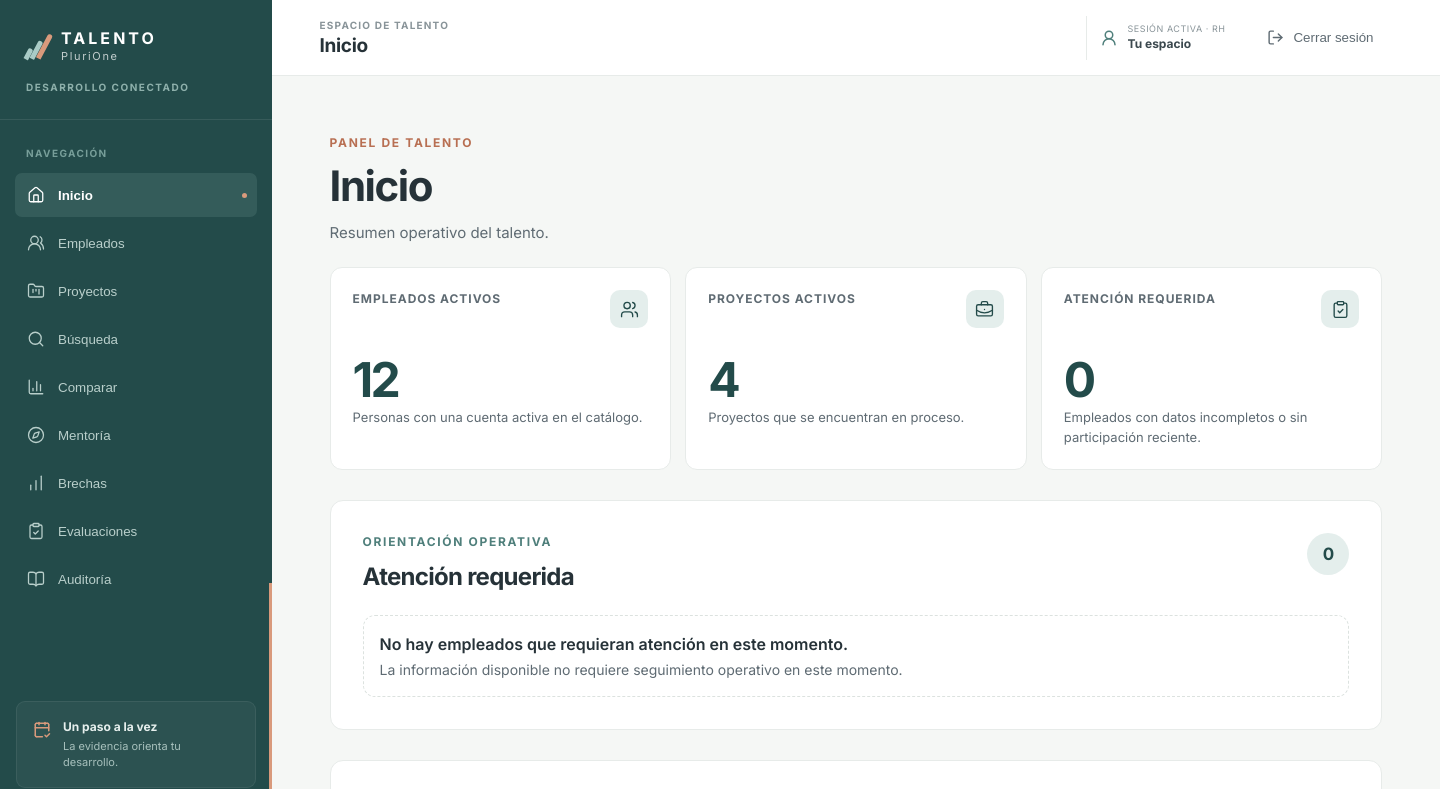
it: RH-02.3 — App: rutas reales de Proyectos (/proyectos, /proyectos/:id) › la URL de Proyectos no sobrevive al cierre de sesión
The image size is (1440, 789).
Check: the heading "Empleados activos" is shown, box left=353, top=290, right=501, bottom=308
What coordinates should you click on to do the following:
click the button "Proyectos"
I would click on:
 (136, 291)
Its box is left=15, top=269, right=257, bottom=313.
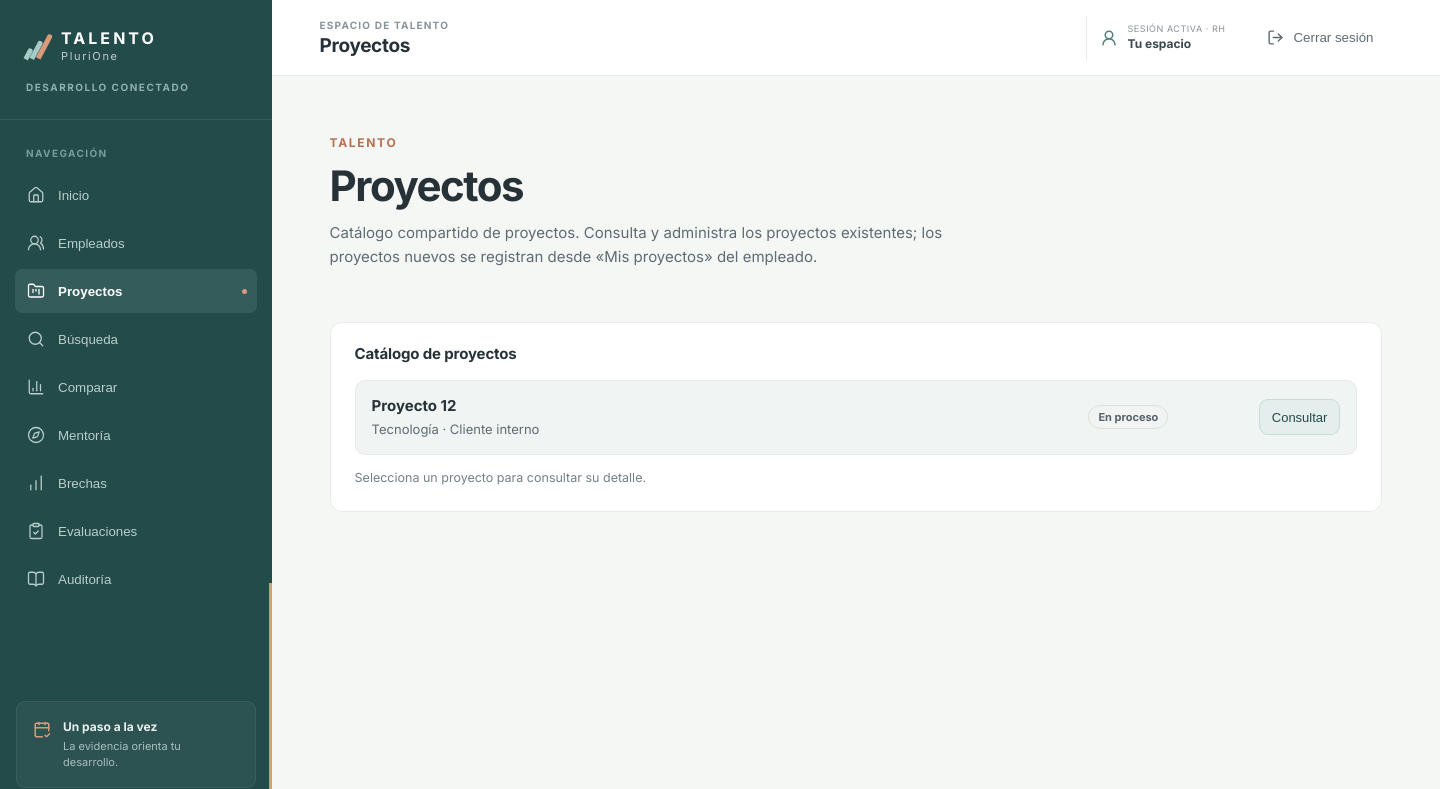
What coordinates should you click on to do the following:
click the button "Consultar"
I would click on:
 (1300, 417)
Its box is left=1259, top=399, right=1340, bottom=435.
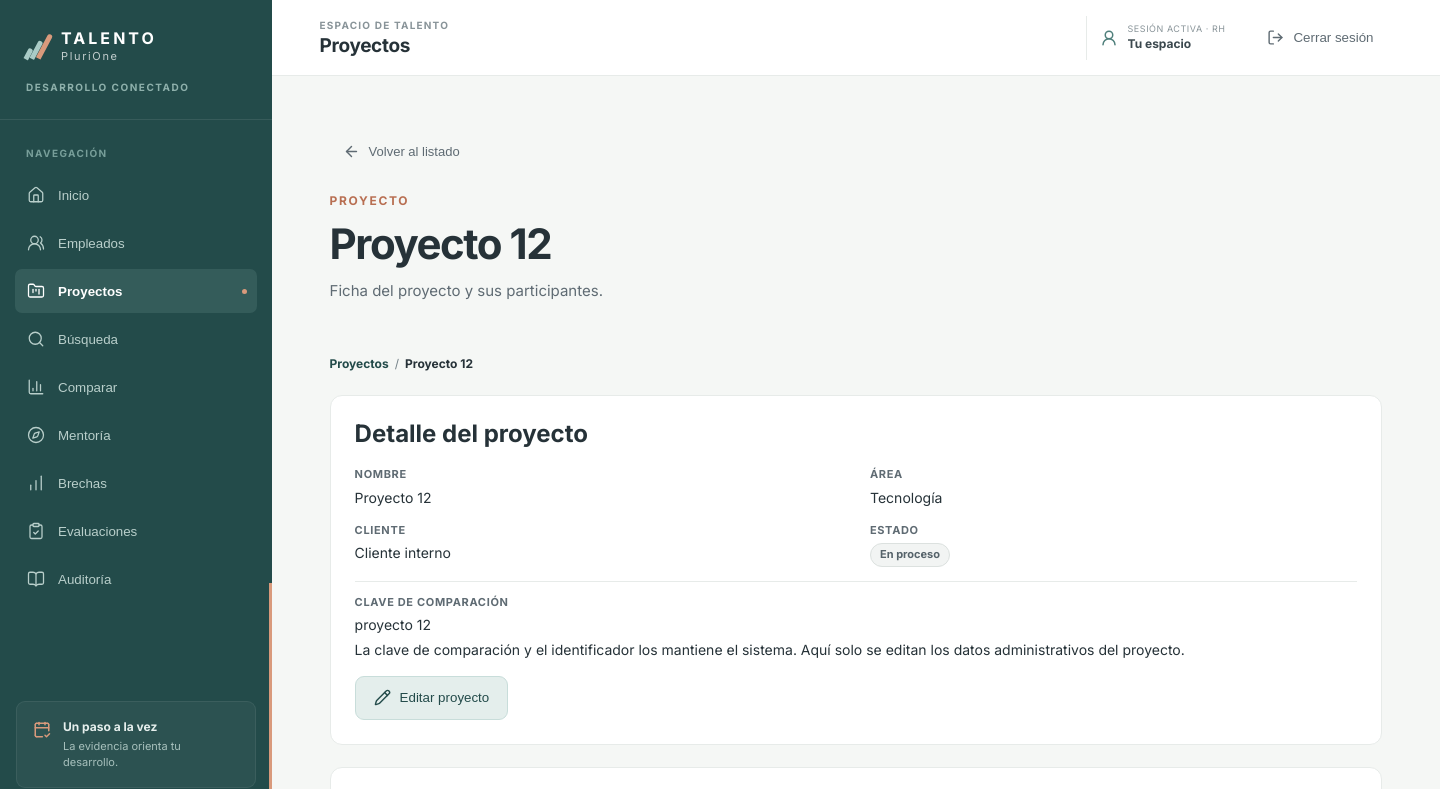
Check: the text "Clave de comparación" is shown, box left=355, top=595, right=509, bottom=609
What coordinates should you click on to do the following:
click the button "Cerrar sesión"
I would click on:
 (1320, 38)
Its box is left=1248, top=16, right=1392, bottom=60.
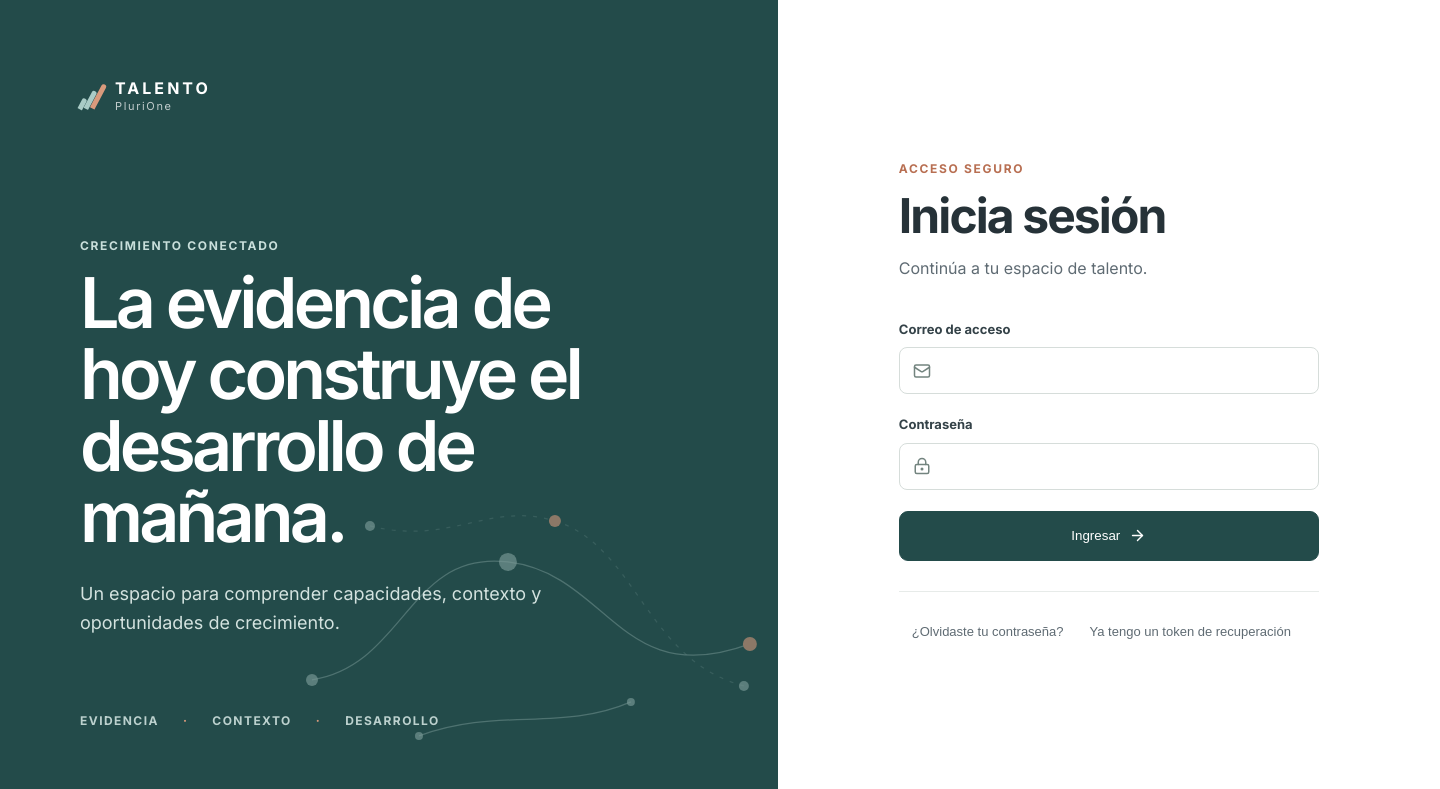
Check: the heading "Inicia sesión" is shown, box left=899, top=186, right=1165, bottom=245
